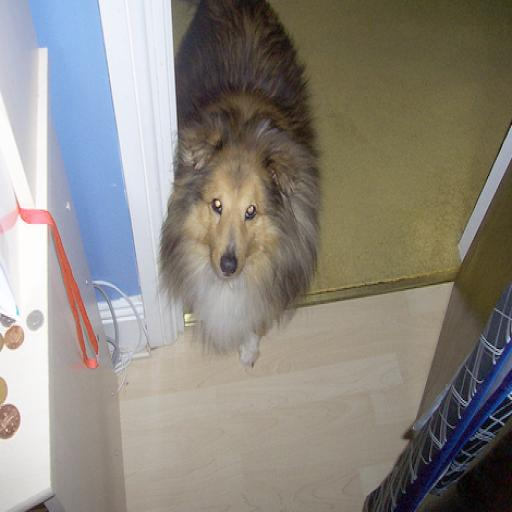dog_face: (169, 128, 308, 287)
